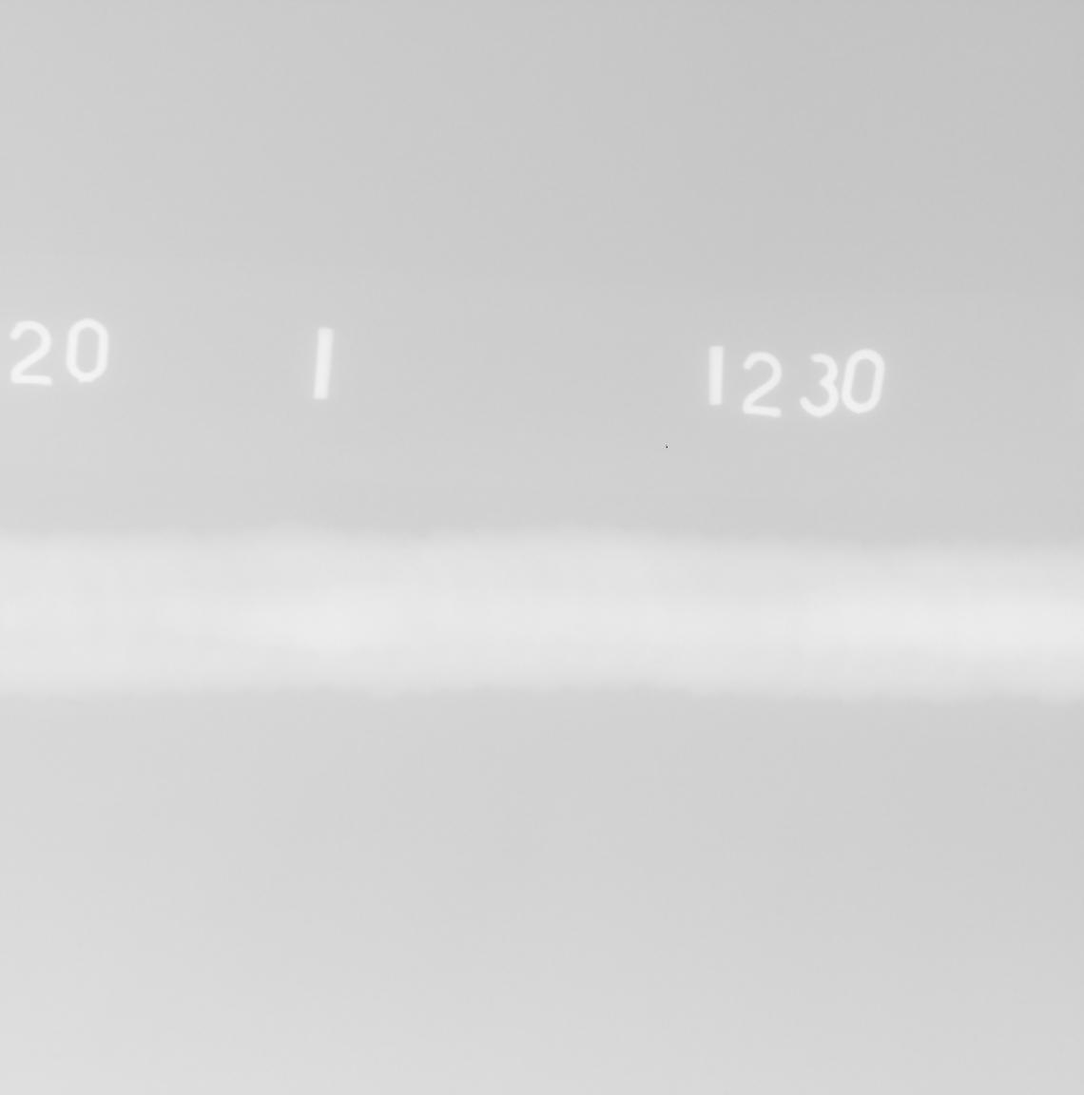Pore/Porosity: (576, 624, 583, 629), (167, 560, 173, 565)
